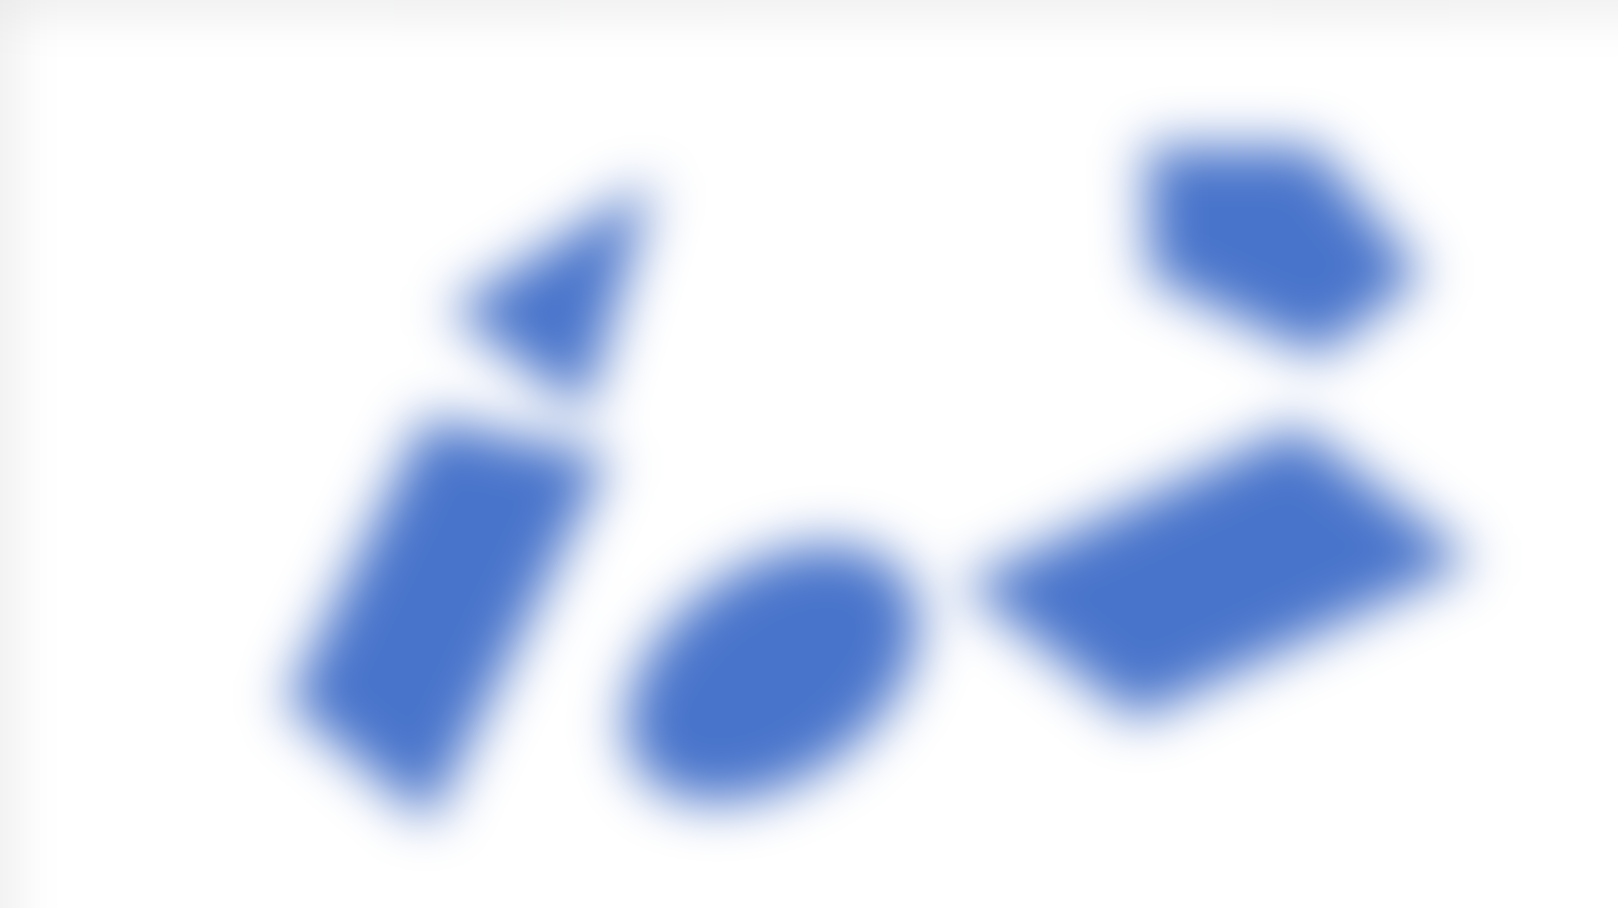circle: (601, 511, 932, 830)
parallelogram: (960, 408, 1484, 727)
pentagon: (1098, 104, 1465, 379)
trapezium: (276, 391, 590, 814)
triangle: (443, 173, 673, 388)
